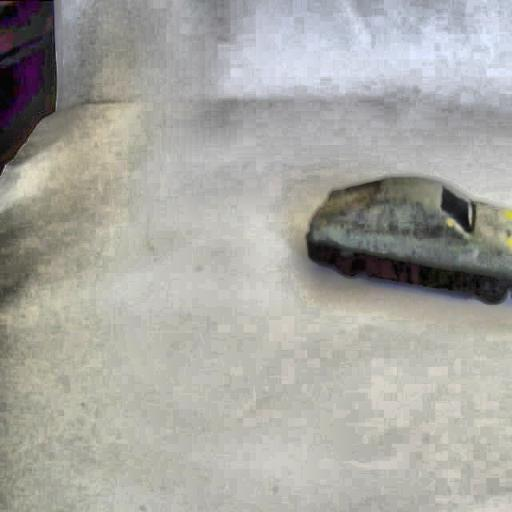normal_car: (304, 171, 512, 305)
